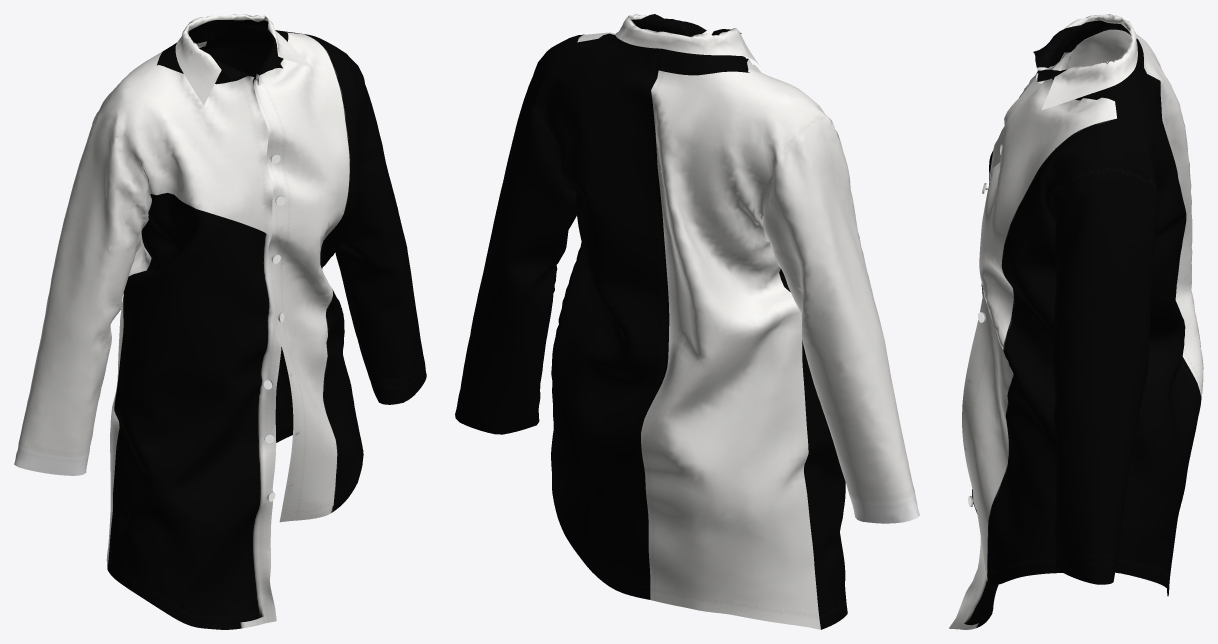
3 renders of one model, left to right at view 1: azimuth 30°, elevation 25°; view 2: azimuth 150°, elevation 25°; view 3: azimuth 270°, elevation 25°, orthographic. The views are drawn at different scales.
Parts seen in each view (by area): view 1: Model_7; view 2: Model_7; view 3: Model_7.
Part boxes in pixels (x1,y1,x2,y2): Model_7: (14,14,426,629); Model_7: (455,14,919,629); Model_7: (949,14,1203,629).
Bounding box in the file's own units: 6.36 × 8.24 × 3.07.
Materials: 4 (3 with a texture image).
